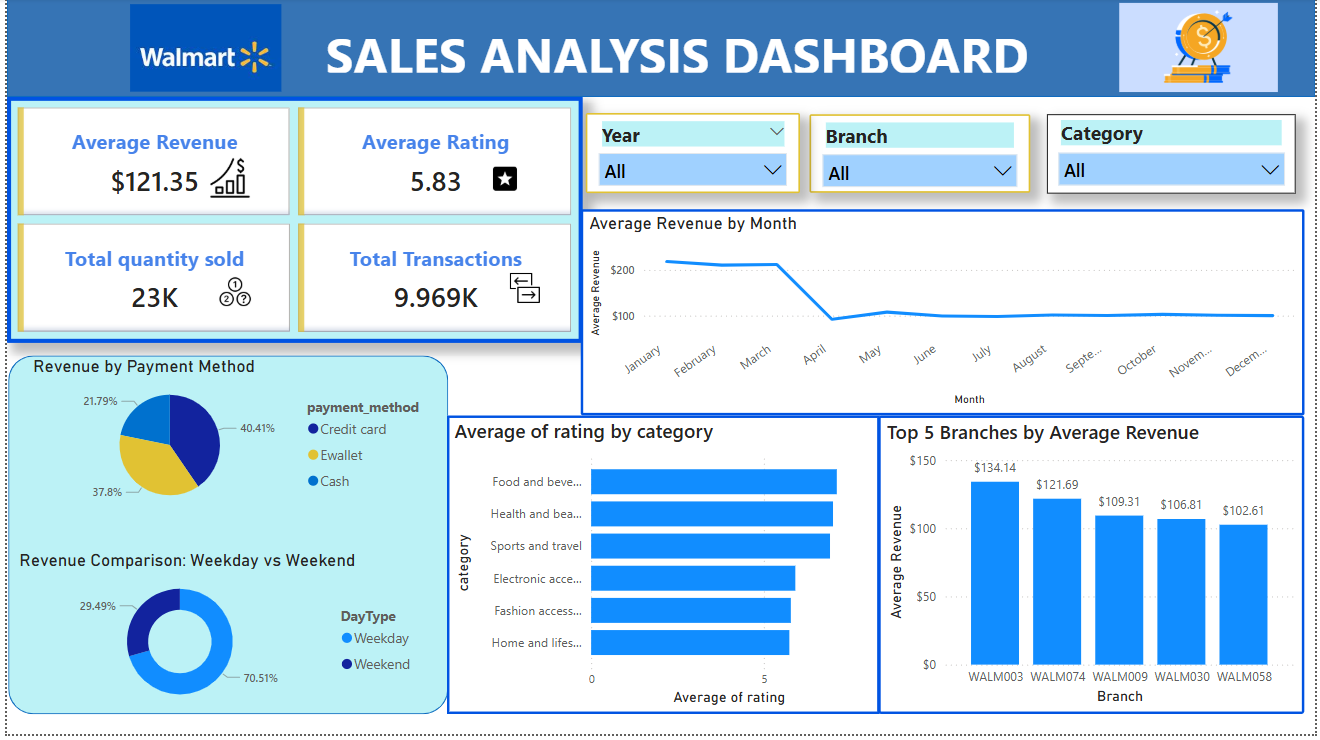

What the dashboard file says about the page in this screenshot:
{"tool":"powerbi","page":{"name":"Page 1","canvas":[1280,720],"ordinal":0},"visuals":[{"type":"cardVisual","fields":{"Data":["Avg(Walmart_Cleaned_Data.total_price)","Avg(Walmart_Cleaned_Data.rating)","Sum(Walmart_Cleaned_Data.quantity)","CountNonNull(Walmart_Cleaned_Data.invoice_id)"]},"box":[0,96.9,563,240.9],"z":0},{"type":"pieChart","title":"Revenue by Payment Method","fields":{"Category":["Walmart_Cleaned_Data.payment_method"],"Y":["Sum(Walmart_Cleaned_Data.total_price)"]},"box":[35.3,349.7,505,156.5],"z":0,"group":"g1"},{"type":"image","box":[181.1,151.5,73.9,49.3],"z":1000},{"type":"donutChart","title":"Revenue Comparison: Weekday vs Weekend","fields":{"Category":["Walmart_Cleaned_Data.DayType"],"Y":["Sum(Walmart_Cleaned_Data.total_price)"]},"box":[20.8,539.3,518.3,161.4],"z":1000,"group":"g1"},{"type":"image","box":[480.5,258.7,51.7,49.3],"z":2000},{"type":"clusteredBarChart","fields":{"Category":["Walmart_Cleaned_Data.category"],"Y":["Avg(Walmart_Cleaned_Data.rating)"]},"box":[569.3,408.4,378.2,292.3],"z":2000,"group":"g1"},{"type":"image","box":[192.2,266.1,62.8,41.9],"z":3000},{"type":"clusteredColumnChart","title":"Top 5 Branches by Average Revenue","fields":{"Category":["Walmart_Cleaned_Data.Branch"],"Y":["Avg(Walmart_Cleaned_Data.total_price)"]},"box":[936.6,408.4,332.3,292.3],"z":3000,"group":"g1"},{"type":"image","box":[468.1,146.6,38.2,60.4],"z":4000},{"type":"lineChart","fields":{"Category":["Walmart_Cleaned_Data.date.Variation.Date Hierarchy.Month"],"Y":["Avg(Walmart_Cleaned_Data.total_price)"]},"box":[569.3,206.7,699.5,201.8],"z":4000,"group":"g1"},{"type":"slicer","fields":{"Values":["Walmart_Cleaned_Data.Branch"]},"box":[784.5,114.2,216,77],"z":4500},{"type":"shape","box":[1.2,349.7,561.3,351],"z":5000},{"type":"slicer","fields":{"Values":["Walmart_Cleaned_Data.date.Variation.Date Hierarchy.Year"]},"box":[566,113,209.8,78.2],"z":6000},{"type":"slicer","fields":{"Values":["Walmart_Cleaned_Data.category"]},"box":[1017.6,113.7,243.5,77.3],"z":8000},{"type":"shape","box":[0,0,1280,96.9],"z":9000},{"type":"image","box":[1.2,1.2,386,95.6],"z":10000},{"type":"textbox","box":[306.6,17.4,847.8,60.8],"z":11000},{"type":"group","id":"g1","title":"Group 1","box":[20.8,0,1258.3,700.7],"z":12000},{"type":"image","box":[1055.9,0,223.2,96.8],"z":12501,"group":"g1"}]}

Visuals, with their boxes in screenshot pixels (x1, y1, x2, y2), scaled from the page's 1280x720 canvas onto the 1320x740 screenshot:
cardVisual - Avg(Walmart_Cleaned_Data.total_price) x Avg(Walmart_Cleaned_Data.rating): Rect(0, 100, 581, 347)
"Revenue by Payment Method" pieChart: Rect(36, 359, 557, 520)
image: Rect(187, 156, 263, 206)
"Revenue Comparison: Weekday vs Weekend" donutChart: Rect(21, 554, 556, 720)
image: Rect(496, 266, 549, 317)
clusteredBarChart - Walmart_Cleaned_Data.category x Avg(Walmart_Cleaned_Data.rating): Rect(587, 420, 977, 720)
image: Rect(198, 273, 263, 317)
"Top 5 Branches by Average Revenue" clusteredColumnChart: Rect(966, 420, 1309, 720)
image: Rect(483, 151, 522, 213)
lineChart - Walmart_Cleaned_Data.date.Variation.Date Hierarchy.Month x Avg(Walmart_Cleaned_Data.total_price): Rect(587, 212, 1308, 420)
slicer - Walmart_Cleaned_Data.Branch: Rect(809, 117, 1032, 197)
shape: Rect(1, 359, 580, 720)
slicer - Walmart_Cleaned_Data.date.Variation.Date Hierarchy.Year: Rect(584, 116, 800, 197)
slicer - Walmart_Cleaned_Data.category: Rect(1049, 117, 1301, 196)
shape: Rect(0, 0, 1319, 100)
image: Rect(1, 1, 399, 99)
textbox: Rect(316, 18, 1190, 80)
"Group 1" group: Rect(21, 0, 1319, 720)
image: Rect(1089, 0, 1319, 99)
